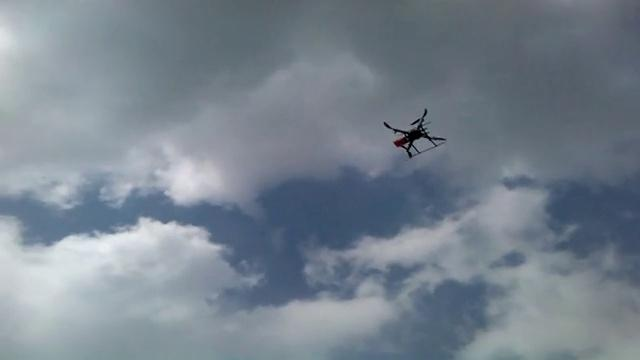drone: (382, 105, 446, 160)
